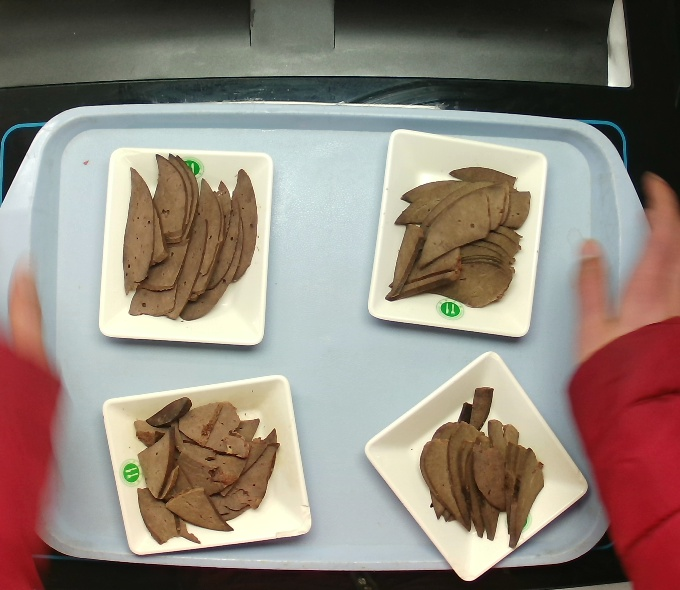wcq-ZhuGan: (116, 149, 263, 329), (126, 390, 286, 549), (381, 159, 533, 316), (416, 381, 550, 554)
